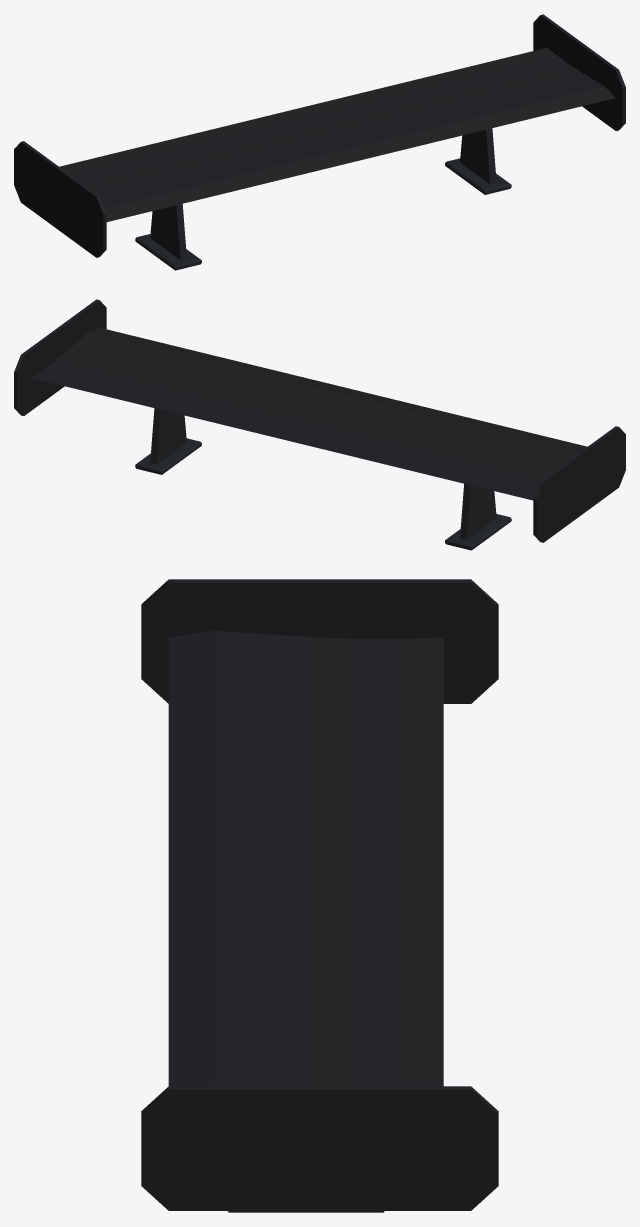
The model's file is apex_v8.glb.
The picture shows the model from 3 angles, top to bottom: view 1: azimuth 30°, elevation 25°; view 2: azimuth 150°, elevation 25°; view 3: azimuth 270°, elevation 25°; orthographic projection. The views are drawn at different scales.
Parts seen in each view (by area): view 1: wing_element, model; view 2: wing_element, model; view 3: wing_element.
Part boxes in pixels (x1=…): wing_element: x1=14, y1=14, x2=625, y2=257; model: x1=135, y1=128, x2=511, y2=270; wing_element: x1=14, y1=299, x2=625, y2=542; model: x1=135, y1=408, x2=511, y2=550; wing_element: x1=141, y1=579, x2=498, y2=1210.
Bounding box in the file's own units: 1.32 × 0.258 × 0.3899.
Materials: 2 (1 with a texture image).
